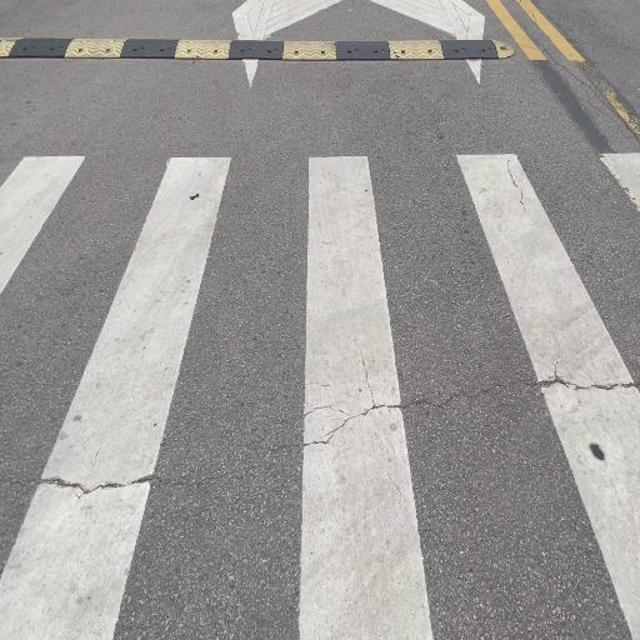Melintang: (22, 369, 640, 504)
